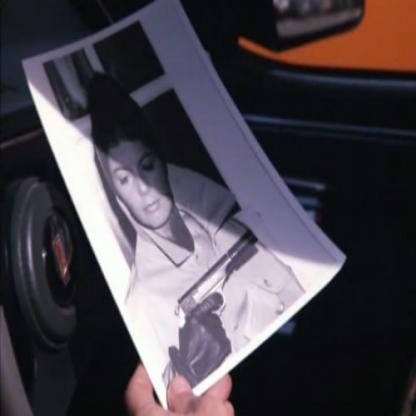Guns: (173, 226, 260, 354)
